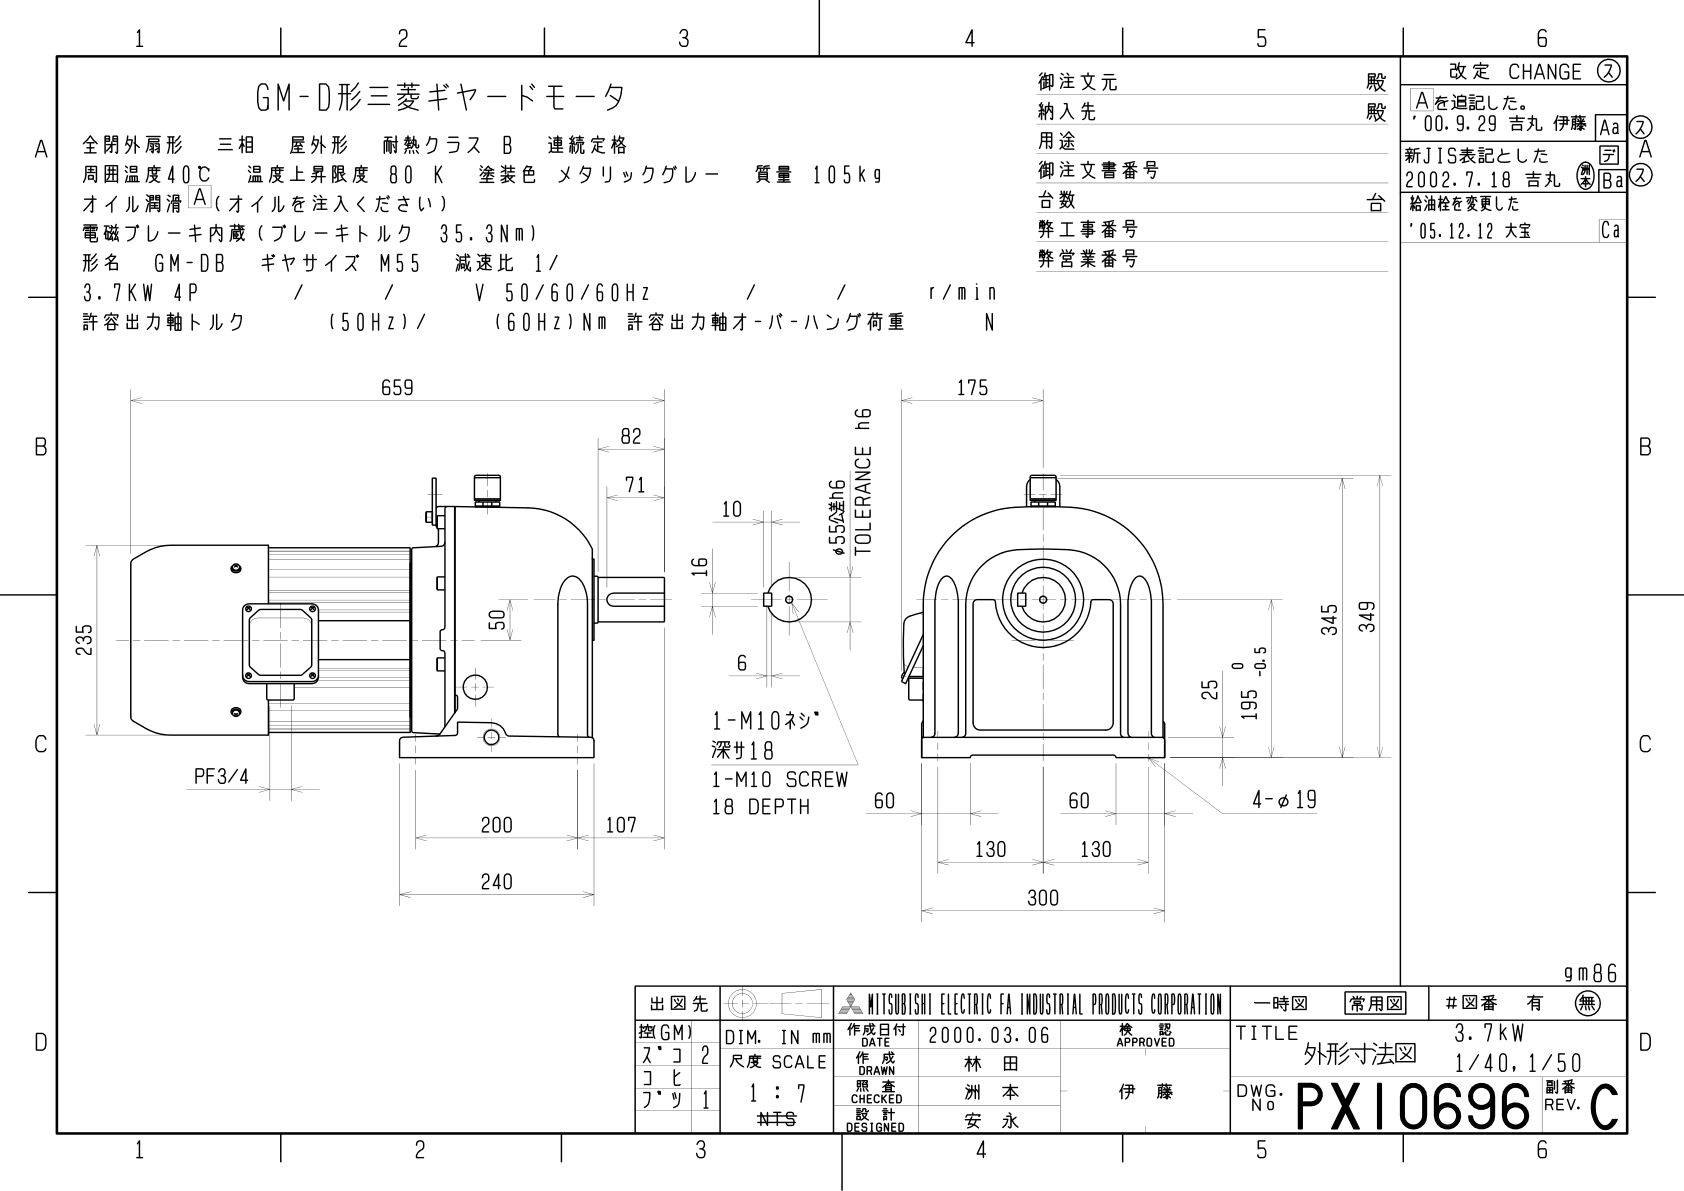GM_D_屋外＿三相_脚: (26, 19, 1684, 1191)
